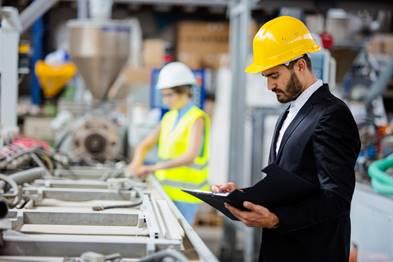helmet: (247, 17, 317, 74), (158, 63, 196, 90)
